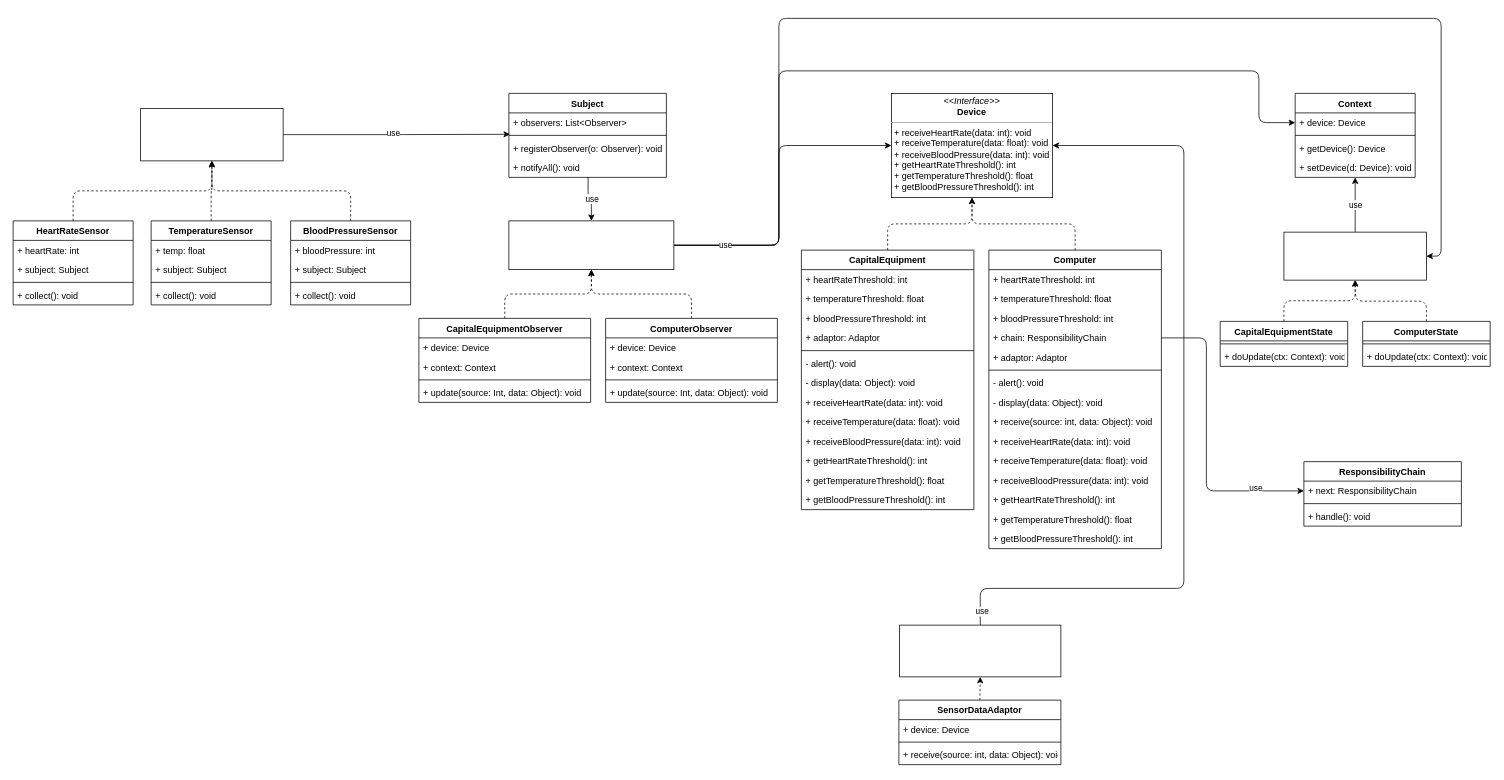
The diagram is 1504 pixels wide and 780 high, and some of its shapes have lost their labels. The centre of each missing label's shape, as x and y in pixels:
"<<Interface>> Adaptor + receive(source: int, data: Object)" belongs at (x=980, y=650).
"<<Interface>> Observer + update(source: Int, data: Object): void" belongs at (x=591, y=245).
"<<Interface>> Sensor + collect(): void" belongs at (x=211, y=134).
"<<Interface>> State + doUpdate(ctx: Context): void" belongs at (x=1354, y=255).
